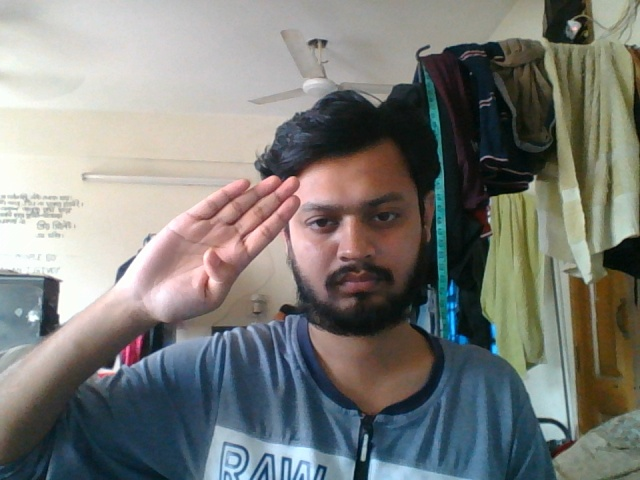salam: (97, 166, 321, 314)
